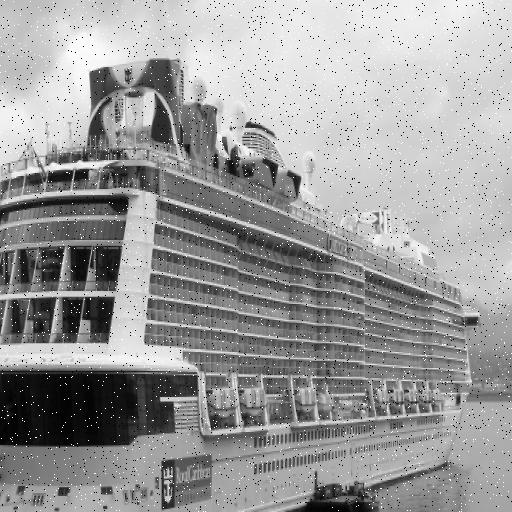cruises: (1, 52, 484, 512)
